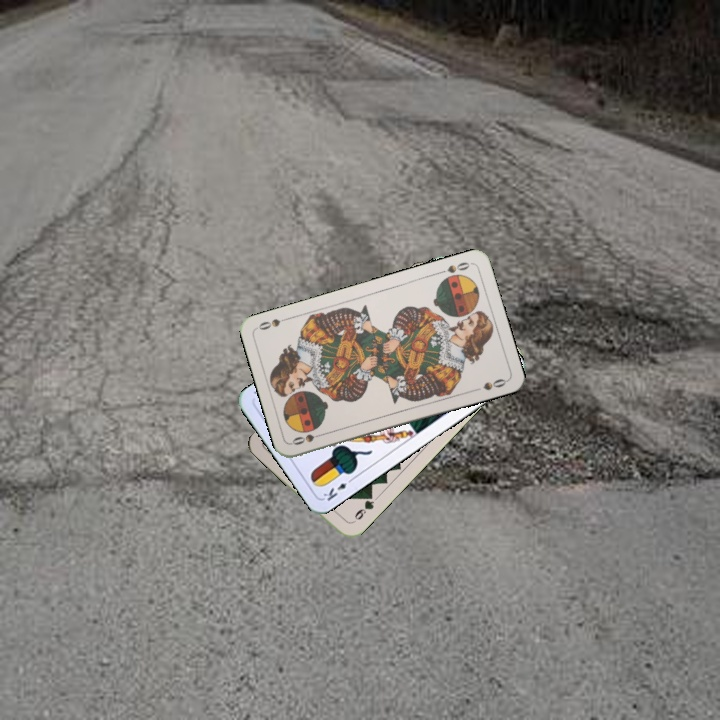EK: (319, 473, 357, 504)
G9: (348, 490, 377, 526)
SO: (288, 429, 328, 448), (434, 258, 474, 277)
